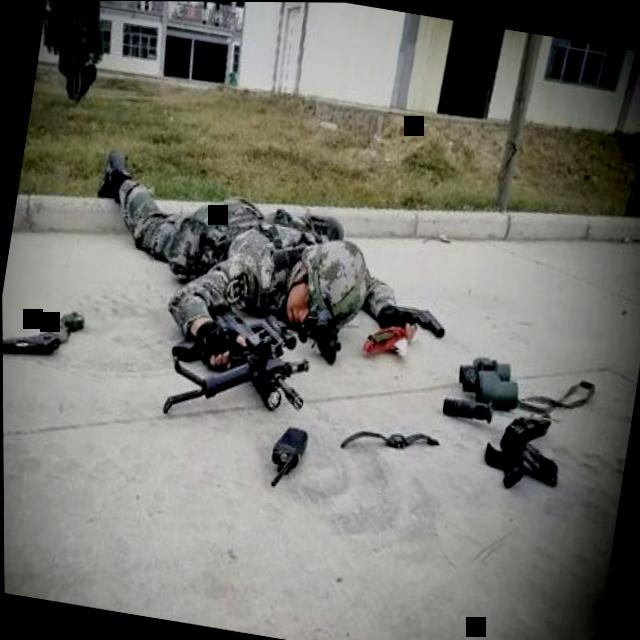Fall-Detected: (63, 133, 482, 399)
